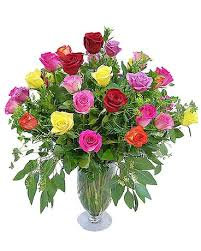lale: (99, 87, 132, 118), (119, 69, 153, 94), (80, 29, 109, 58), (48, 110, 80, 136), (70, 91, 102, 117), (92, 63, 117, 92), (78, 130, 103, 157), (60, 51, 86, 74), (53, 71, 82, 91), (134, 103, 157, 128), (25, 71, 55, 90), (153, 66, 175, 91), (40, 50, 64, 72), (125, 123, 145, 149), (8, 86, 34, 103), (15, 113, 42, 128), (156, 110, 171, 135)
